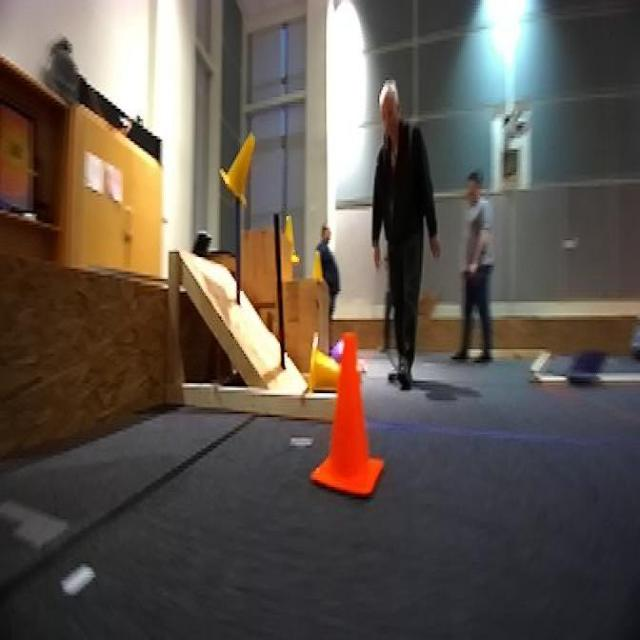frc_cone: (220, 119, 253, 203), (305, 328, 340, 392), (282, 208, 300, 262), (310, 248, 328, 293)
